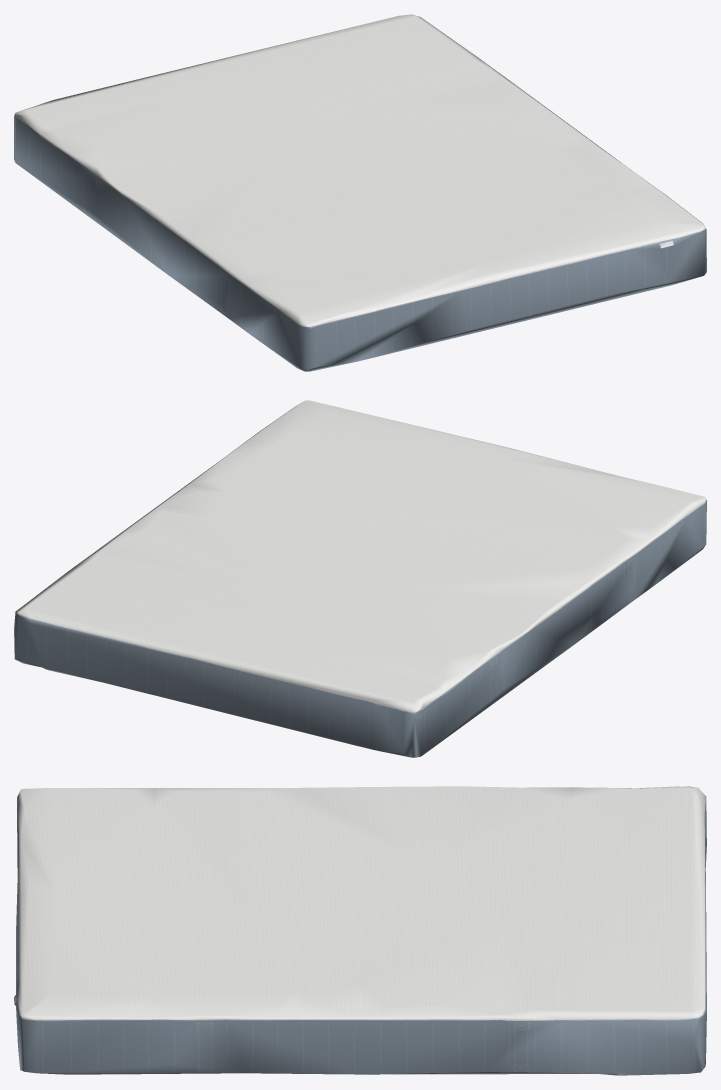
The model's file is vesteroey-pocket-sprung-mattress-firm-light-blue-40450618.glb.
3 views of the same model, one above another, from view 1: azimuth 30°, elevation 25°; view 2: azimuth 150°, elevation 25°; view 3: azimuth 270°, elevation 25° (orthographic). The views are drawn at different scales.
Visible parts, largest first — view 1: model; view 2: model; view 3: model.
Boxes of the visible parts, <box> form: model: <box>14,14,706,371</box>; model: <box>14,400,706,757</box>; model: <box>14,786,706,1075</box>.
Size of the model in its own units: 1.61 by 0.2029 by 2.01.
1 material, 1 textured.
